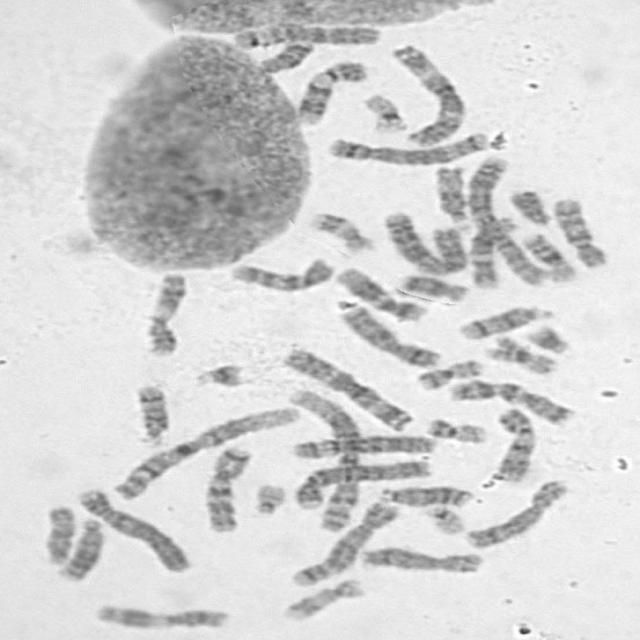A1: (107, 403, 302, 502), (282, 384, 366, 534)
A2: (466, 151, 554, 288), (377, 208, 470, 276)
A3: (276, 344, 416, 432), (389, 40, 471, 149)
B4: (71, 483, 193, 574), (289, 457, 435, 510)
B5: (287, 497, 405, 588), (323, 126, 493, 166)
C10: (547, 193, 611, 270), (223, 253, 338, 293)
C11: (89, 599, 234, 631), (140, 268, 190, 358)
C12: (329, 262, 428, 323), (462, 214, 521, 291)
C6: (287, 430, 441, 460), (226, 21, 383, 50)
C7: (444, 375, 578, 427), (199, 441, 257, 534)
C8: (461, 475, 572, 550), (356, 542, 488, 575)
C9: (292, 57, 370, 126), (490, 403, 540, 483)
D13: (53, 514, 108, 581), (374, 481, 476, 508)
D14: (455, 302, 557, 340), (130, 380, 172, 447)
D15: (428, 162, 472, 224), (38, 502, 78, 566)
E16: (517, 229, 580, 283), (486, 331, 559, 376)
E17: (278, 575, 367, 623), (304, 208, 376, 252)
E18: (396, 270, 471, 302), (254, 36, 317, 74)
F19: (358, 89, 410, 134)
F20: (412, 354, 487, 391), (421, 413, 491, 445)
G21: (187, 358, 249, 389), (522, 320, 574, 356)
G22: (419, 502, 469, 536), (248, 479, 289, 516)
X: (333, 301, 446, 369)
Y: (504, 185, 554, 226)
